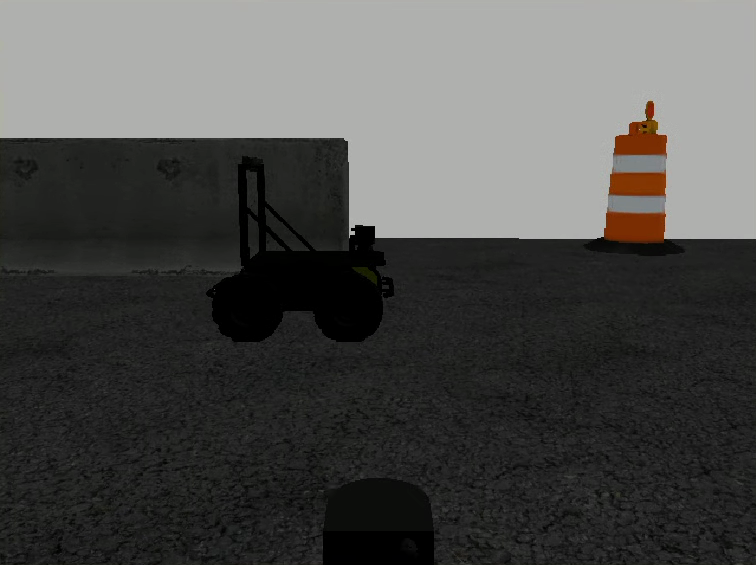husky: (206, 250, 396, 343)
